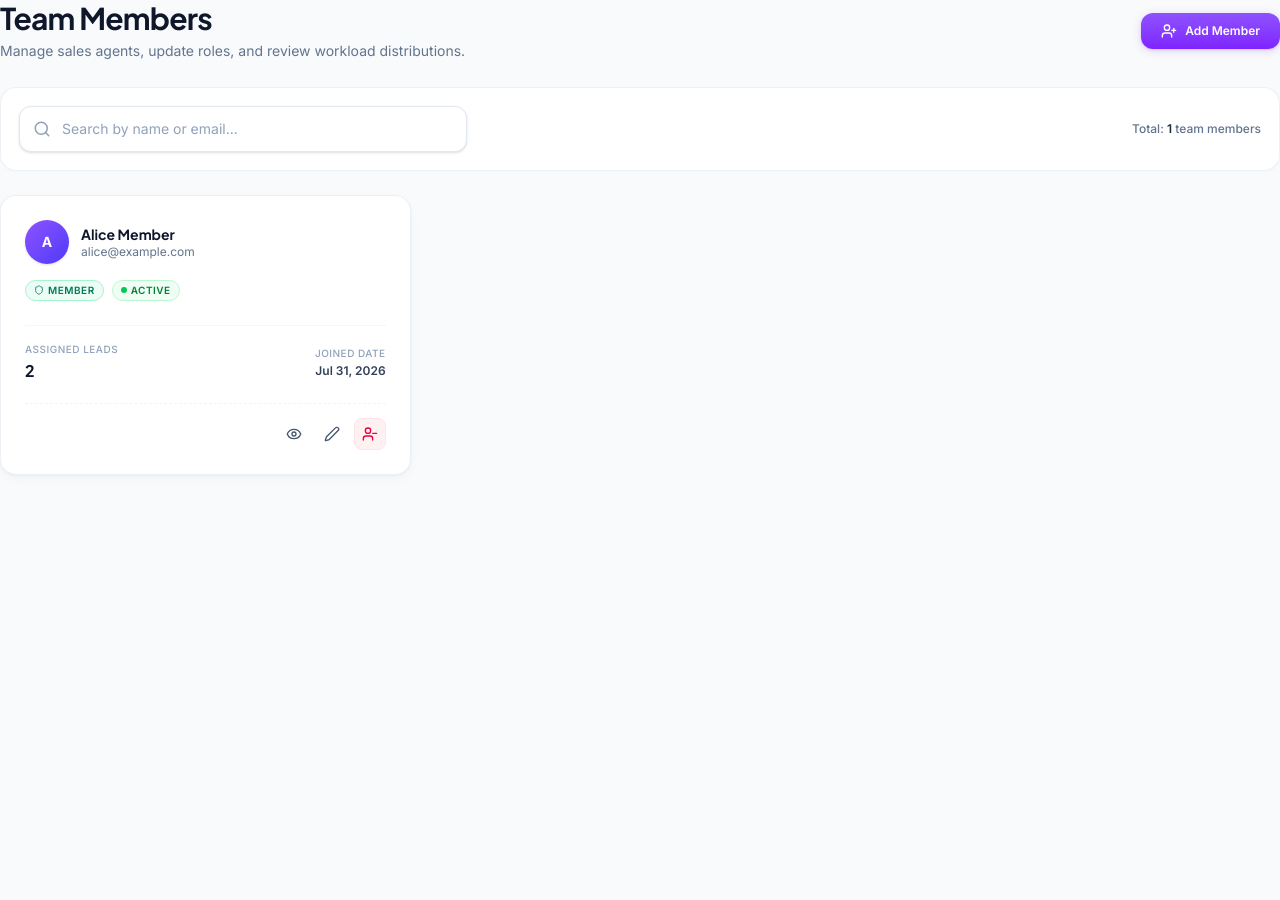
Members Page › allows admin to open add member modal and create a new member
The image size is (1280, 900).
// Open add member modal
Click the button "Add Member". click: (1211, 31)
box: [1141,13,1279,49]
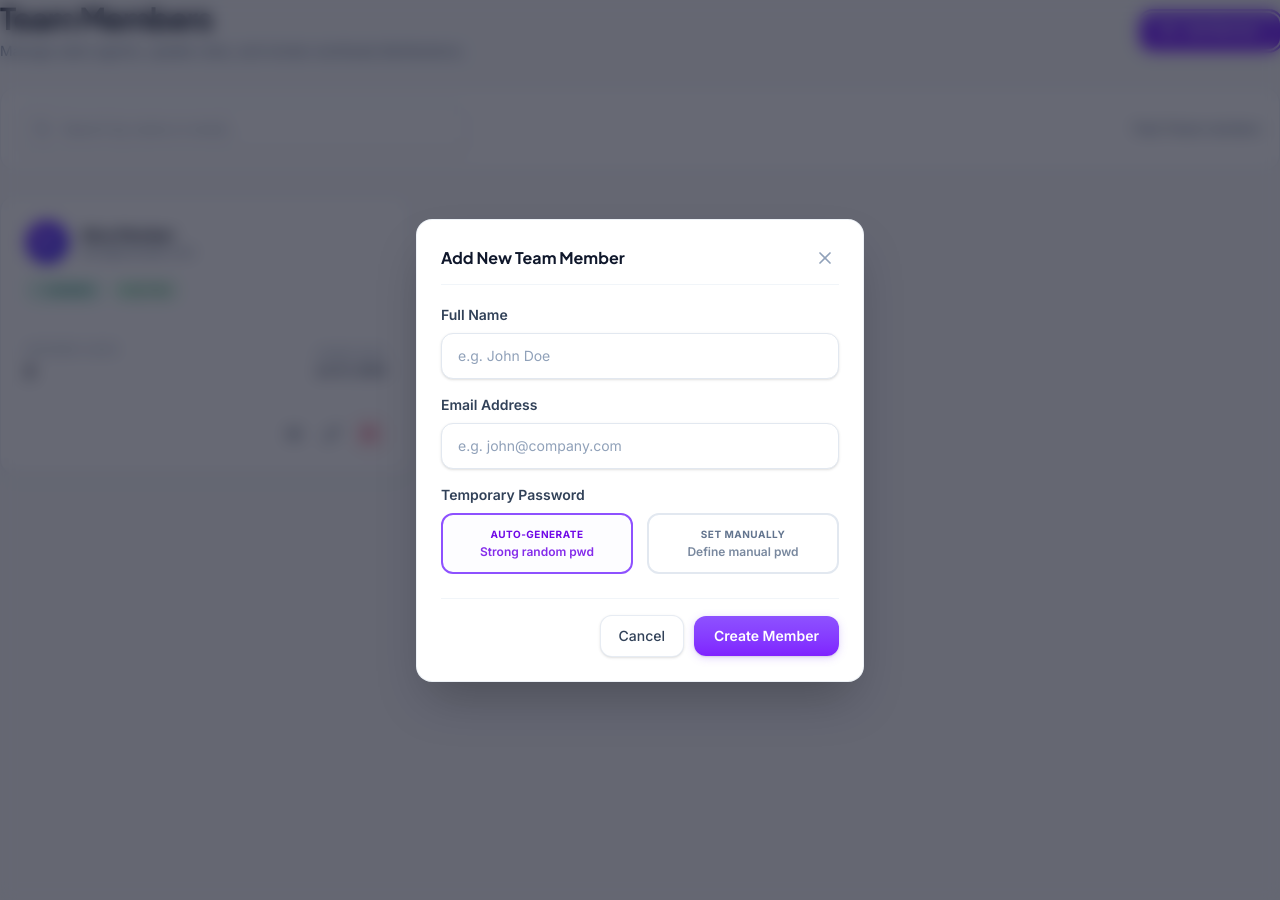
Expected: the heading "Add New Team Member" is shown, [441,246,625,270]
// Fill form
Type "Bob New" into the field with placeholder "e.g. John Doe". click: (640, 356)
box: [441,332,839,378]
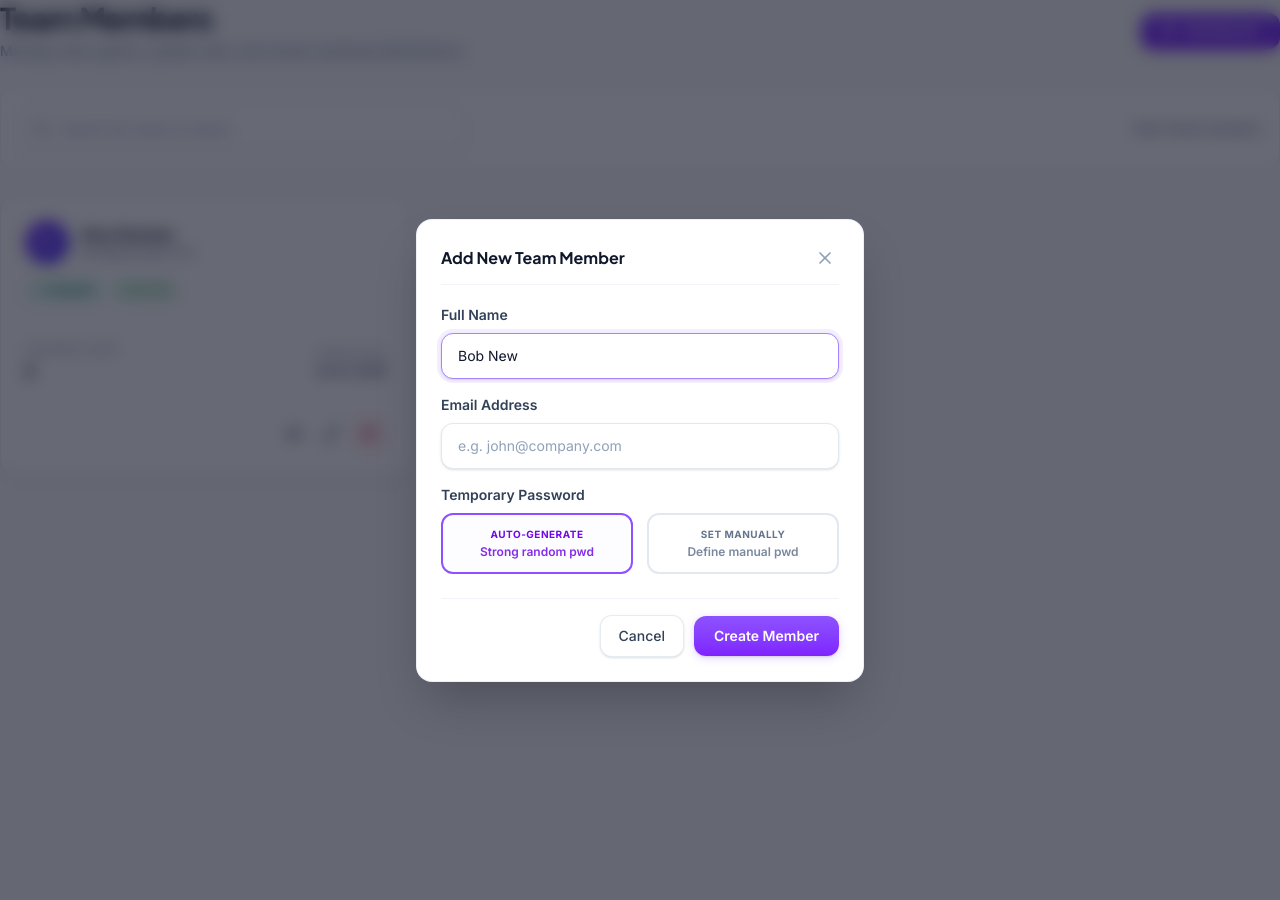
Type "bob@new.com" into the field with placeholder "e.g. john@company.com". click: (640, 446)
box: [441,422,839,468]
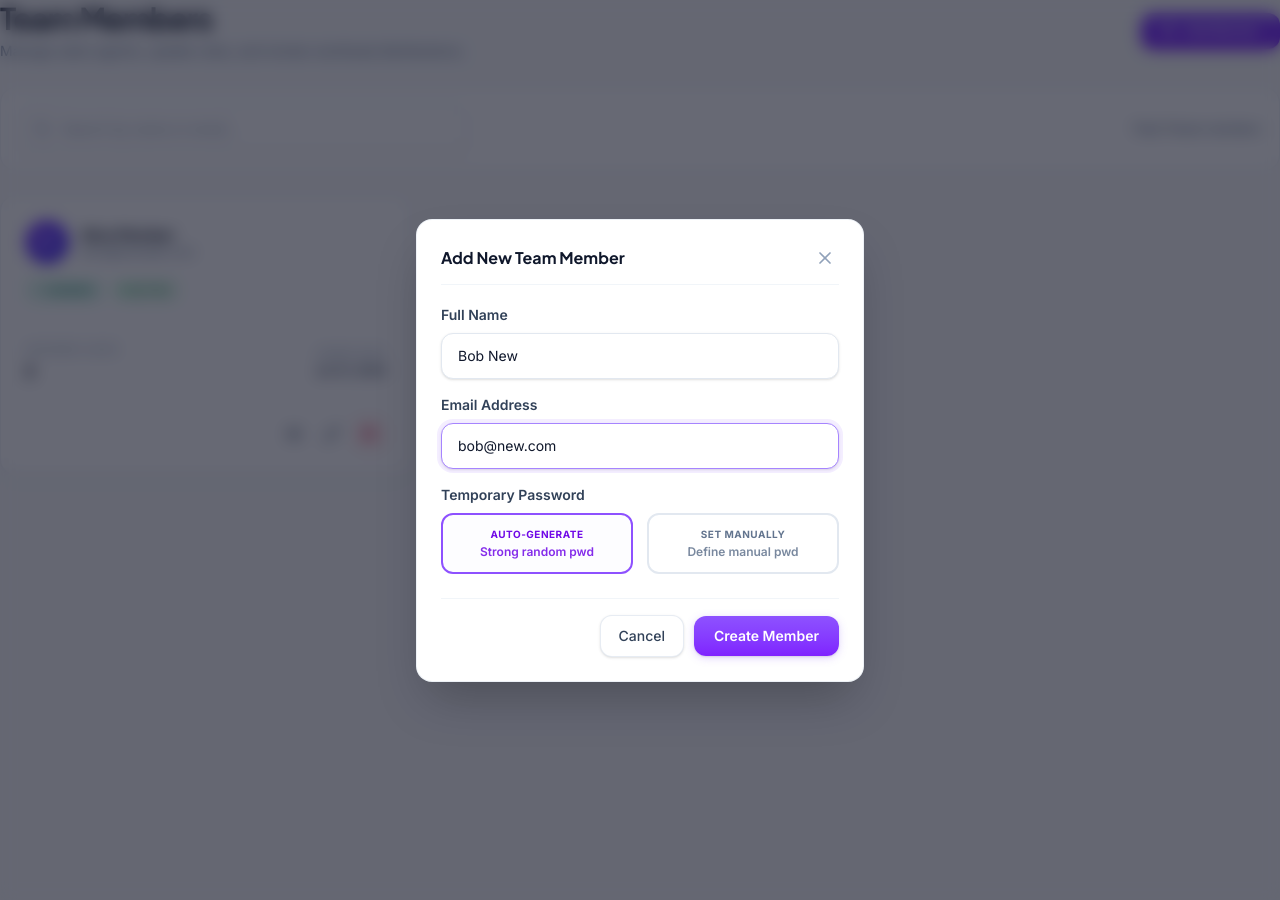
// Click Set Manually for temporary password
Click the text "Set Manually". click: (743, 534)
box: [701,526,785,542]
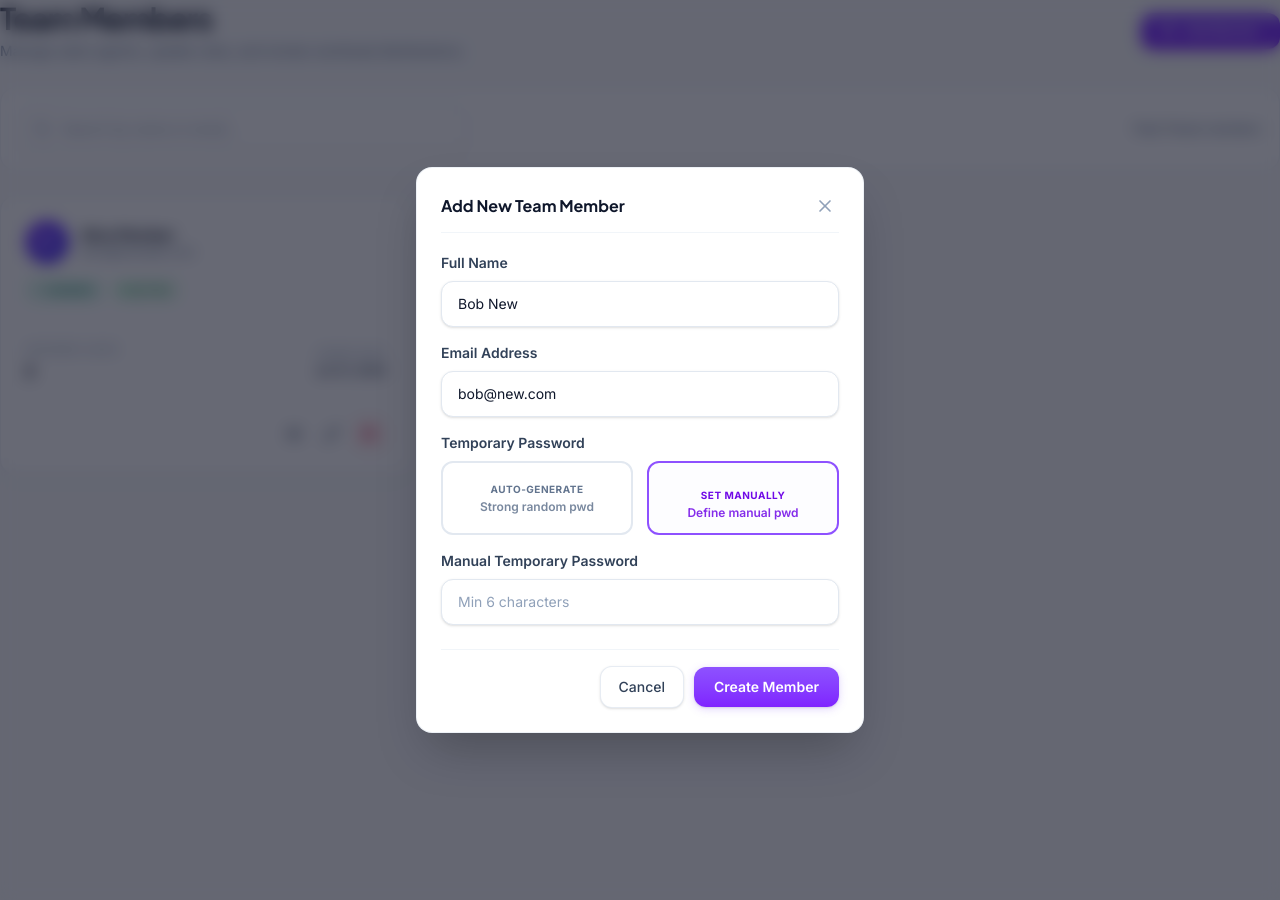
// Enter manual password
Type "generatedPwd123!" into the field with placeholder "Min 6 characters". click: (640, 602)
box: [441,579,839,625]
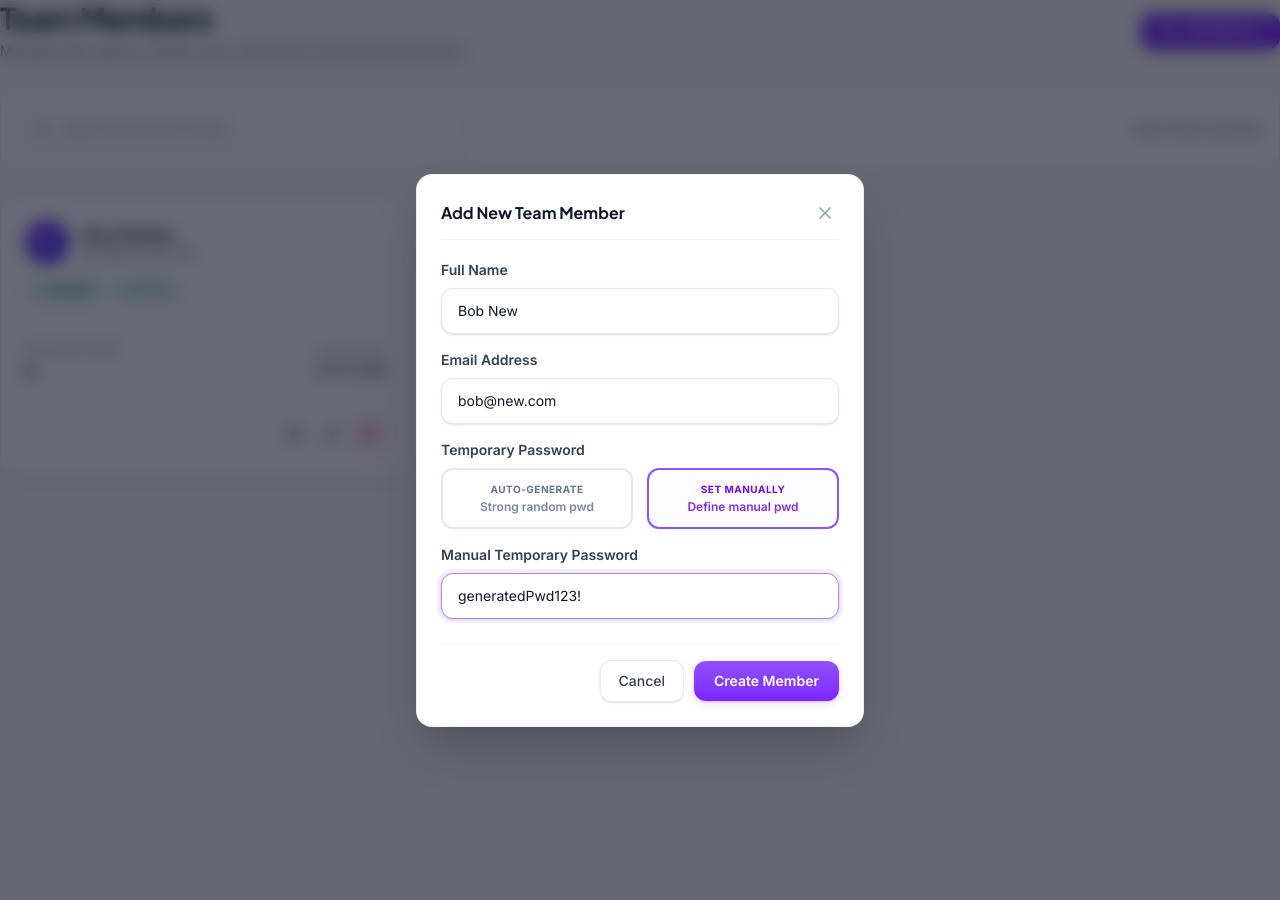
Click the button "Create Member". click: (766, 680)
box: [694,660,839,700]
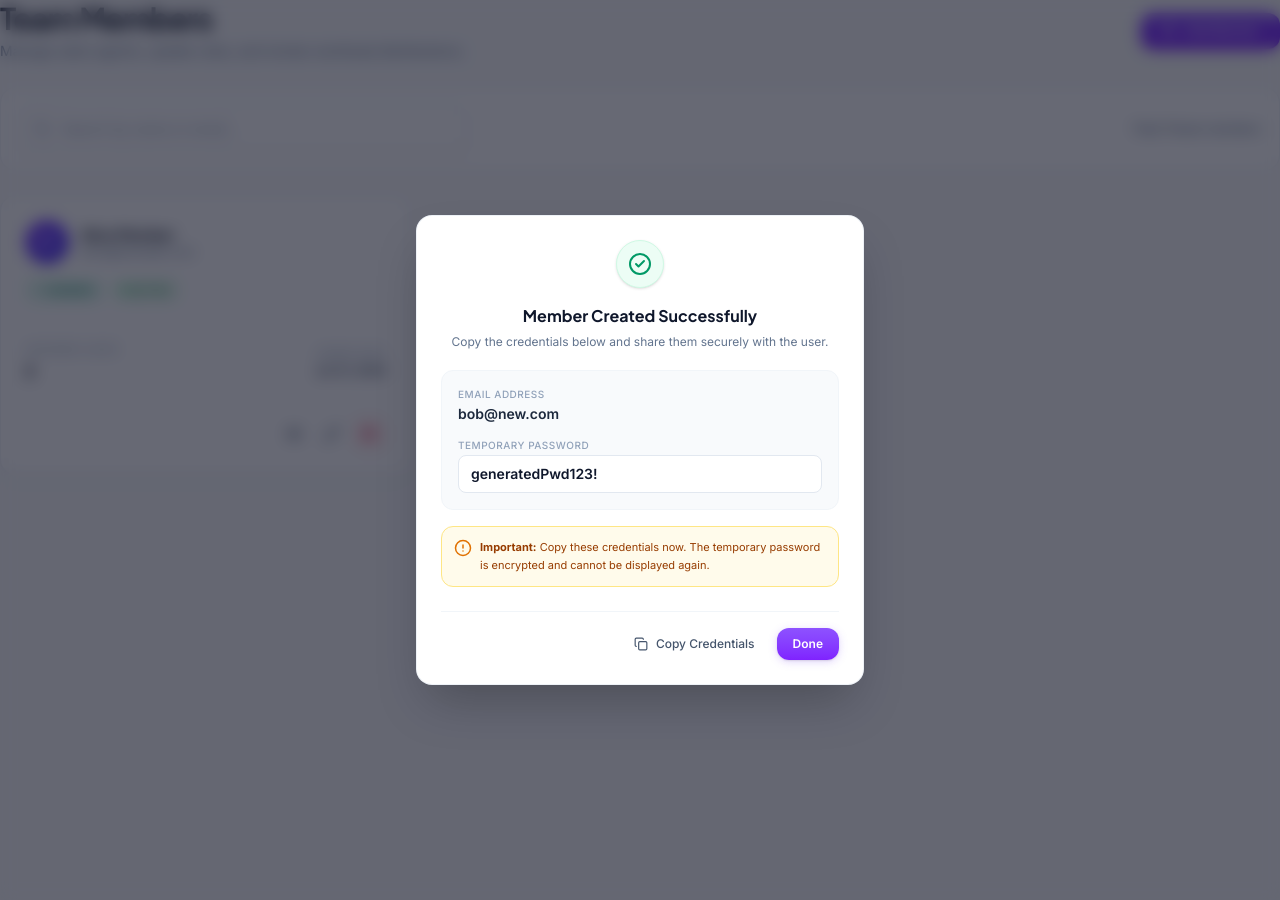
Expected: the heading "Member Created Successfully" is shown, [523,304,757,328]
Expected: the text "bob@new.com" is shown, [458,405,559,422]
Expected: the text "generatedPwd123!" is shown, [458,455,822,493]
